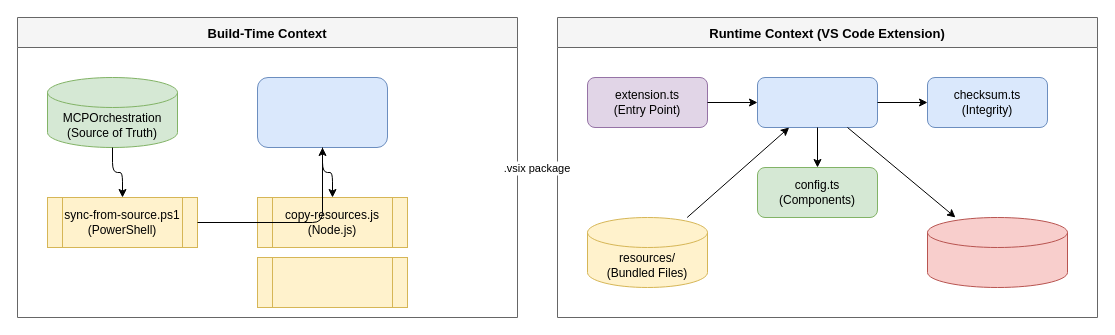
This 1115x335 diagram has some shape labels left out. Each missing label, with the centre of its shape:
FEC_CR_Builder Workspace Root: (322,112)
gen-checksums.js (Node.js crypto): (332,282)
injector.ts (Copy Logic): (817,102)
Target Workspace (.kiro/ + documents/): (997,252)
